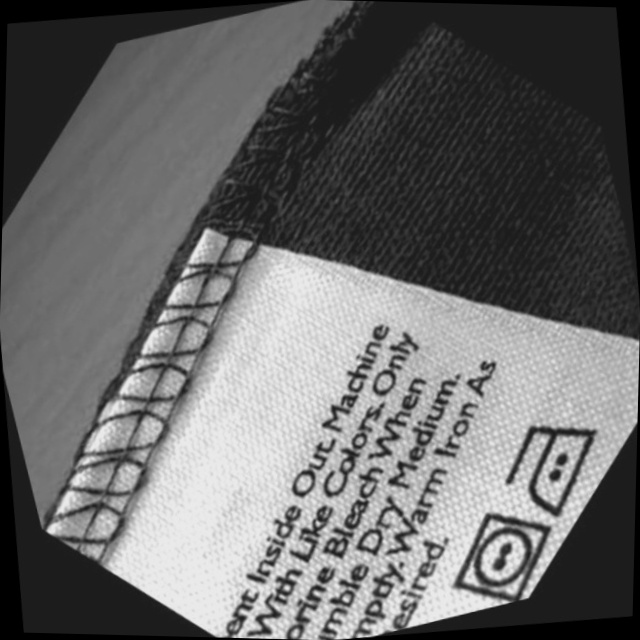iron_medium: (491, 404, 624, 528)
tumble_dry_medium: (437, 496, 573, 617)
